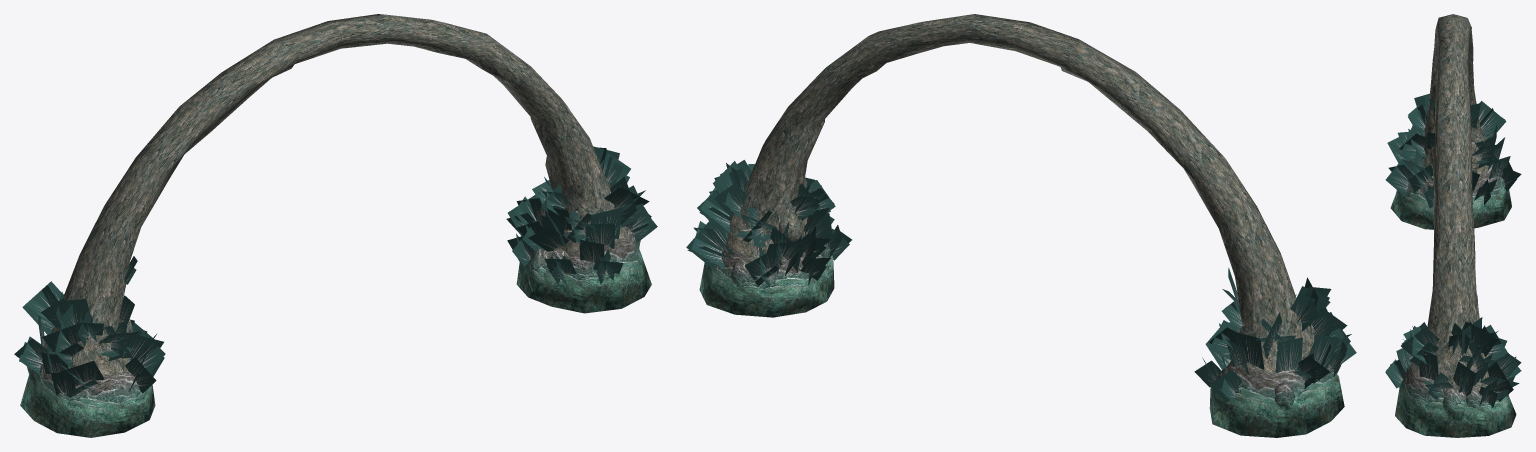
The model's file is rock_crystl_arch_med_l0.fbx.
3 renders of one model, left to right at view 1: azimuth 30°, elevation 25°; view 2: azimuth 150°, elevation 25°; view 3: azimuth 270°, elevation 25°, orthographic. The views are drawn at different scales.
Visible parts, largest first — view 1: mesh_node; view 2: mesh_node; view 3: mesh_node.
Boxes of the visible parts, <box> form: mesh_node: <box>14,14,657,437</box>; mesh_node: <box>686,14,1356,437</box>; mesh_node: <box>1385,14,1521,437</box>.
Bounding box in the file's own units: 94.03 × 46.34 × 20.95.
